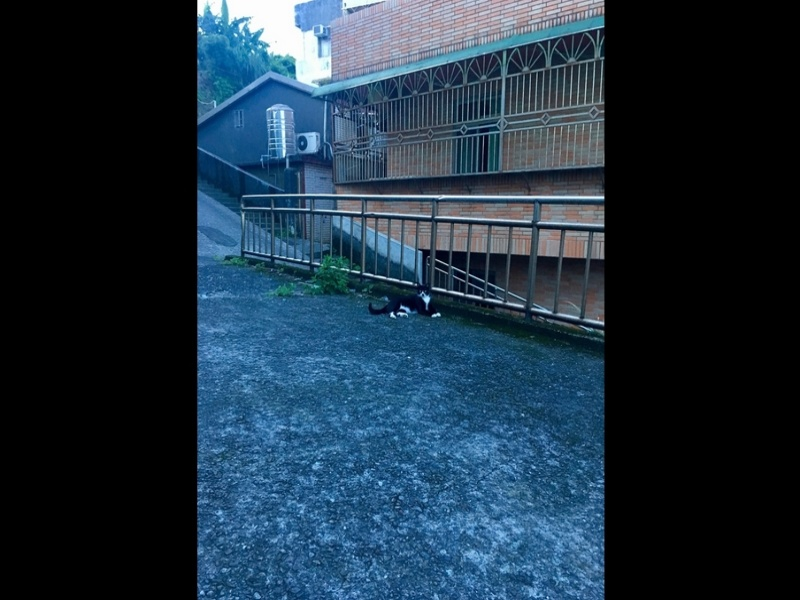cat: (368, 287, 443, 320)
